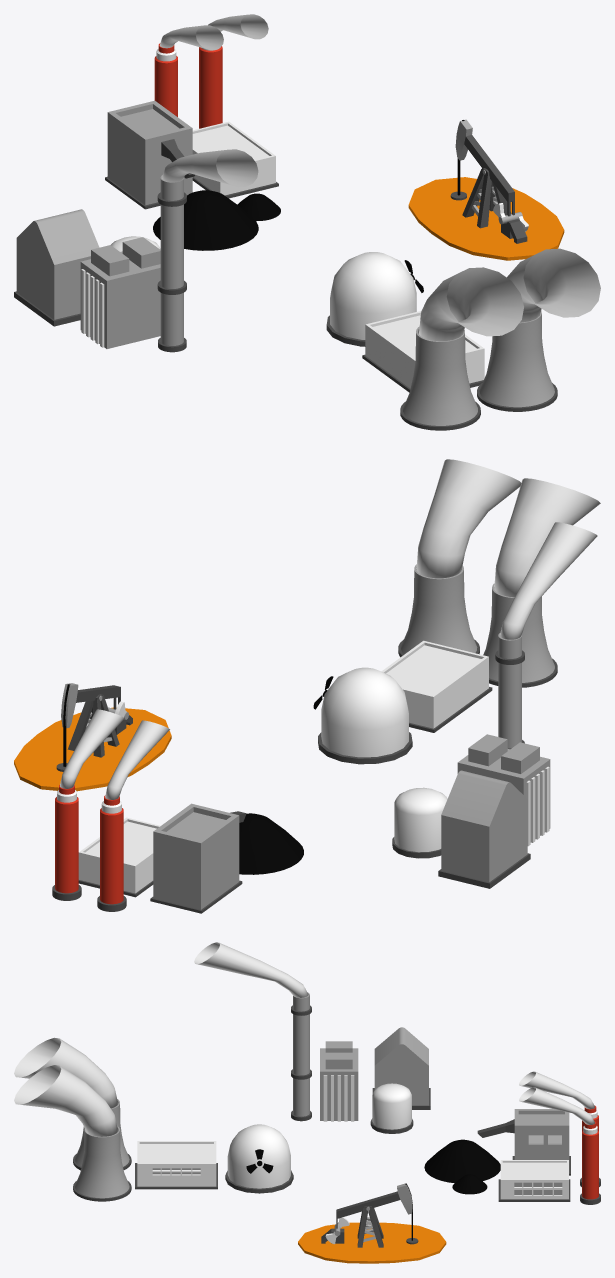
Rendered from energy.fbx.
The picture shows the model from 3 angles, top to bottom: view 1: azimuth 30°, elevation 25°; view 2: azimuth 150°, elevation 25°; view 3: azimuth 270°, elevation 25°; orthographic projection. The views are drawn at different scales.
Parts seen in each view (by area): view 1: nuclear, natural_gas, coal, oil, plume.001, plume, plume.004, plume.003, plume.002; view 2: nuclear, coal, natural_gas, oil, plume, plume.001, plume.004, plume.002, plume.003; view 3: nuclear, coal, natural_gas, oil, plume, plume.001, plume.004, plume.002, plume.003.
Boxes of the visible parts, x1,y1,x2,y2 form: nuclear: [326, 252, 557, 430]; natural_gas: [14, 175, 186, 352]; coal: [105, 43, 280, 250]; oil: [408, 119, 564, 260]; plume.001: [419, 267, 523, 341]; plume: [507, 248, 600, 322]; plume.004: [162, 149, 258, 187]; plume.003: [159, 25, 223, 50]; plume.002: [208, 14, 268, 39]; nuclear: [318, 564, 557, 764]; coal: [52, 785, 303, 913]; natural_gas: [392, 633, 550, 888]; oil: [14, 683, 171, 791]; plume: [416, 459, 521, 578]; plume.001: [494, 478, 600, 597]; plume.004: [500, 522, 597, 639]; plume.002: [60, 709, 124, 788]; plume.003: [105, 720, 169, 799]; nuclear: [73, 1099, 293, 1201]; coal: [424, 1105, 600, 1204]; natural_gas: [291, 992, 430, 1133]; oil: [298, 1183, 446, 1263]; plume: [14, 1065, 117, 1136]; plume.001: [14, 1037, 117, 1108]; plume.004: [194, 942, 308, 997]; plume.002: [519, 1087, 594, 1124]; plume.003: [519, 1071, 594, 1109].
Size of the model in its own units: 1492 by 702 by 2149.
Materials: 5 (1 with a texture image).
